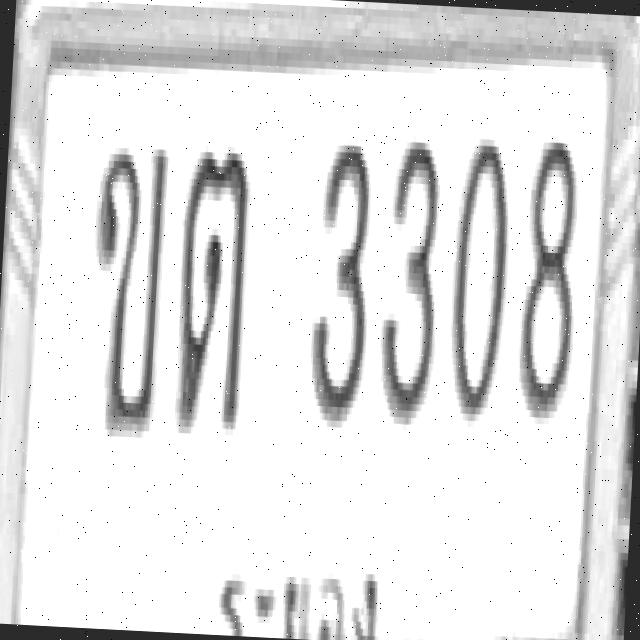0: (444, 128, 514, 426)
11KhorKhai: (84, 140, 170, 439)
3: (304, 130, 376, 429), (375, 131, 444, 429)
30TorTao: (170, 141, 254, 433)
8: (514, 132, 581, 422)
Rayong: (215, 558, 384, 640)
